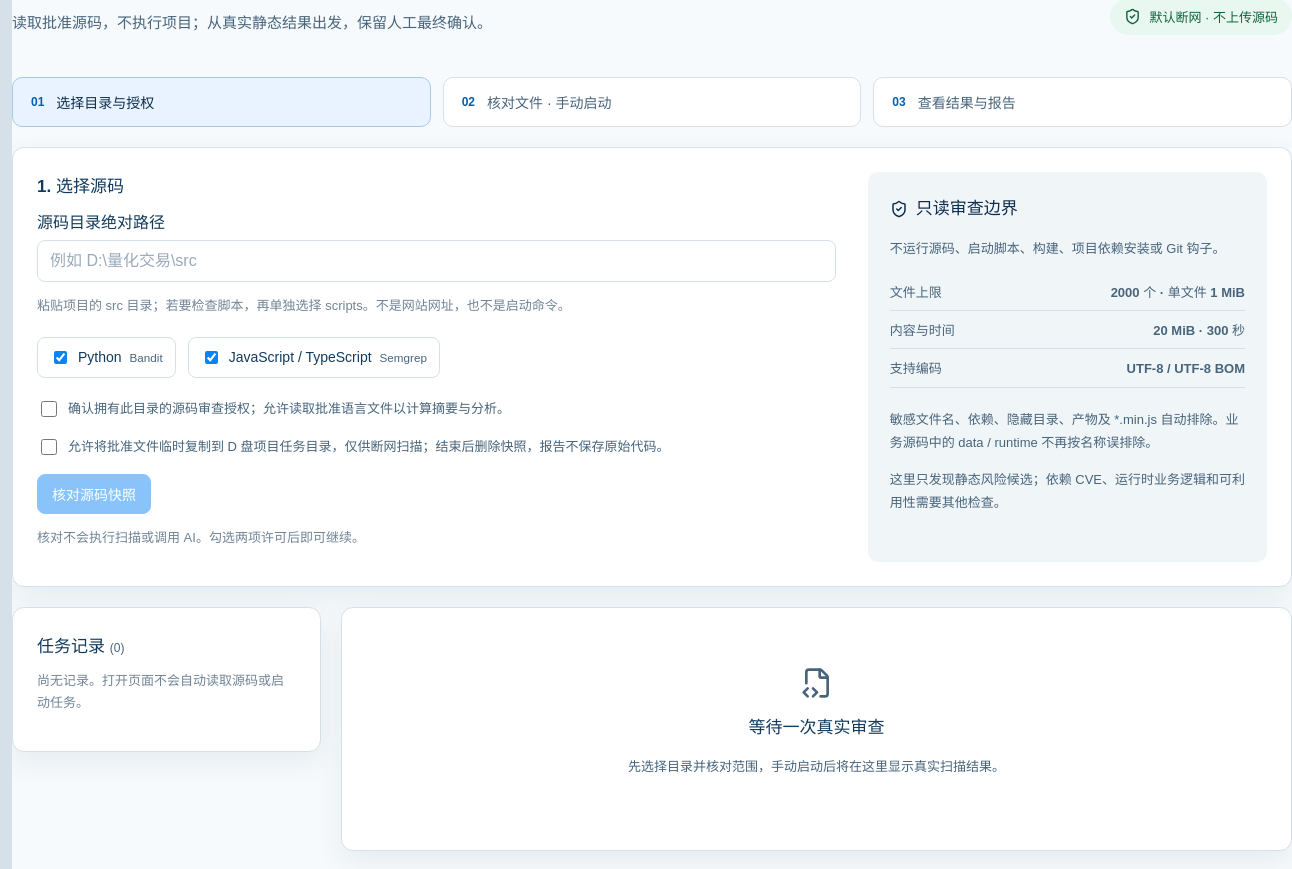
Test: does not replay an accepted scan when the immediate status refresh fails
The image size is (1292, 869).
Type "D:\\Synthetic" into the field labelled "源码目录绝对路径" at (436, 261), box [37, 240, 836, 282]
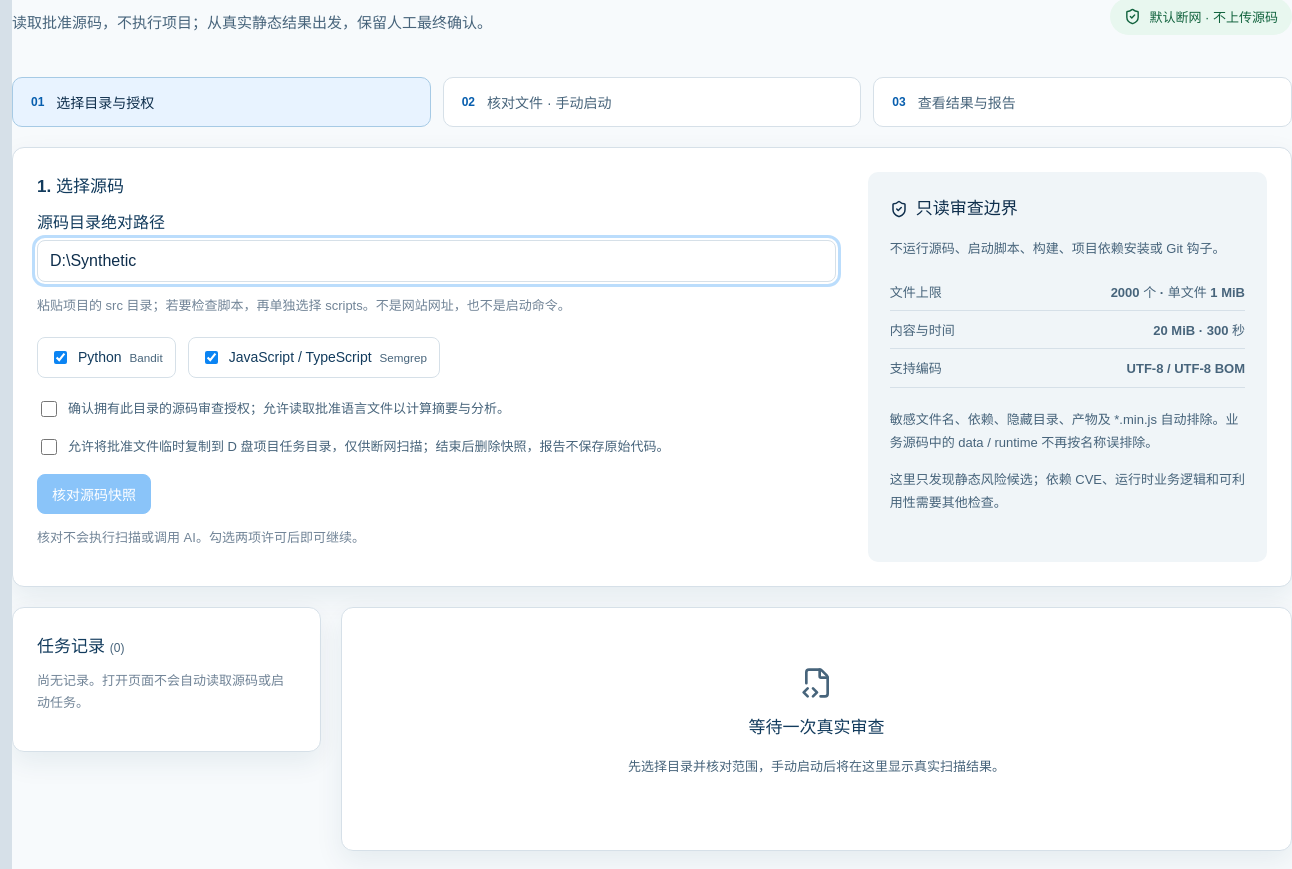
Click the checkbox labelled "确认拥有此目录的源码审查授权；允许读取批准语言文件以计算摘要与分析。" at (49, 409), box [41, 401, 57, 417]
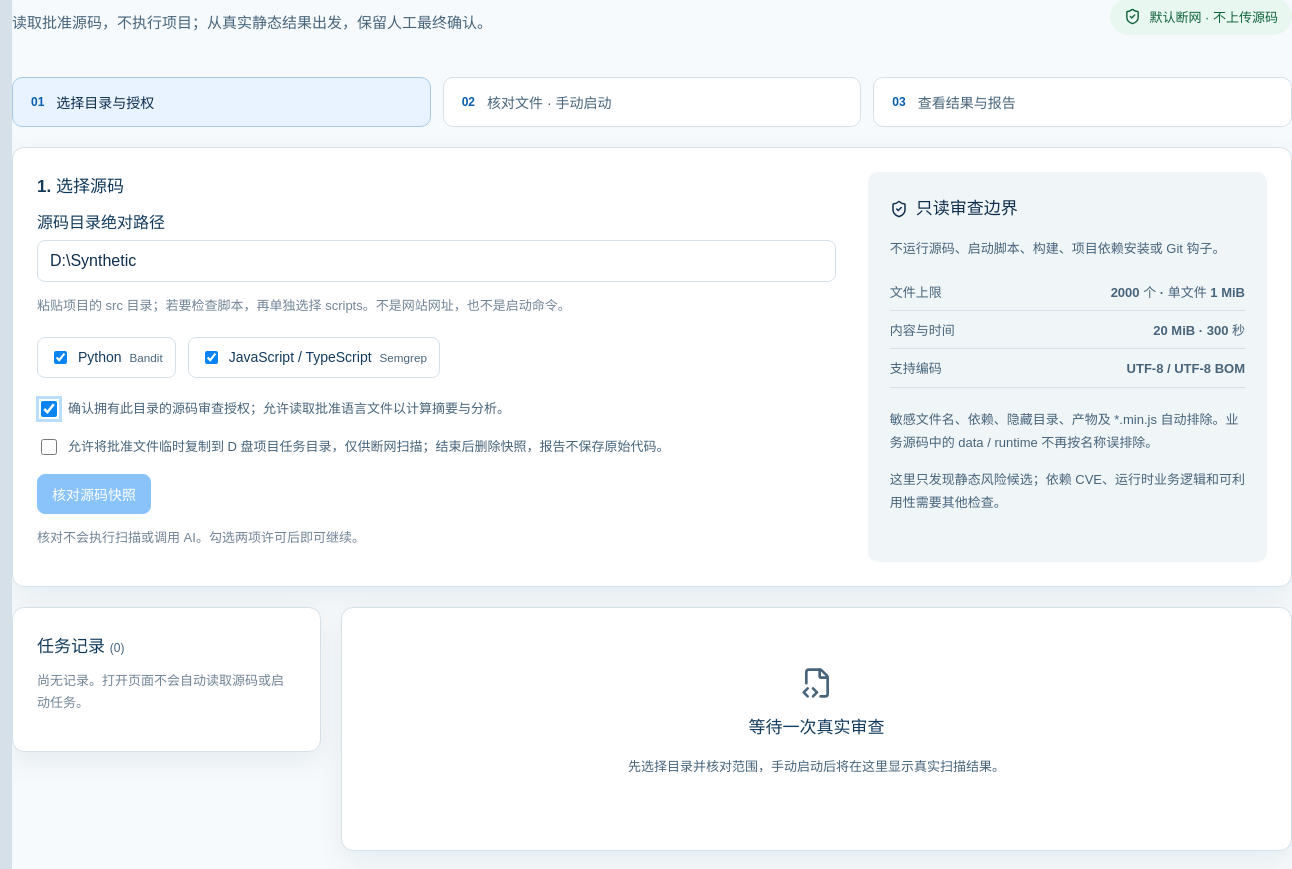
Click the checkbox labelled "允许将批准文件临时复制到 D 盘项目任务目录，仅供断网扫描；结束后删除快照，报告不保存原始代码。" at (49, 447), box [41, 439, 57, 455]
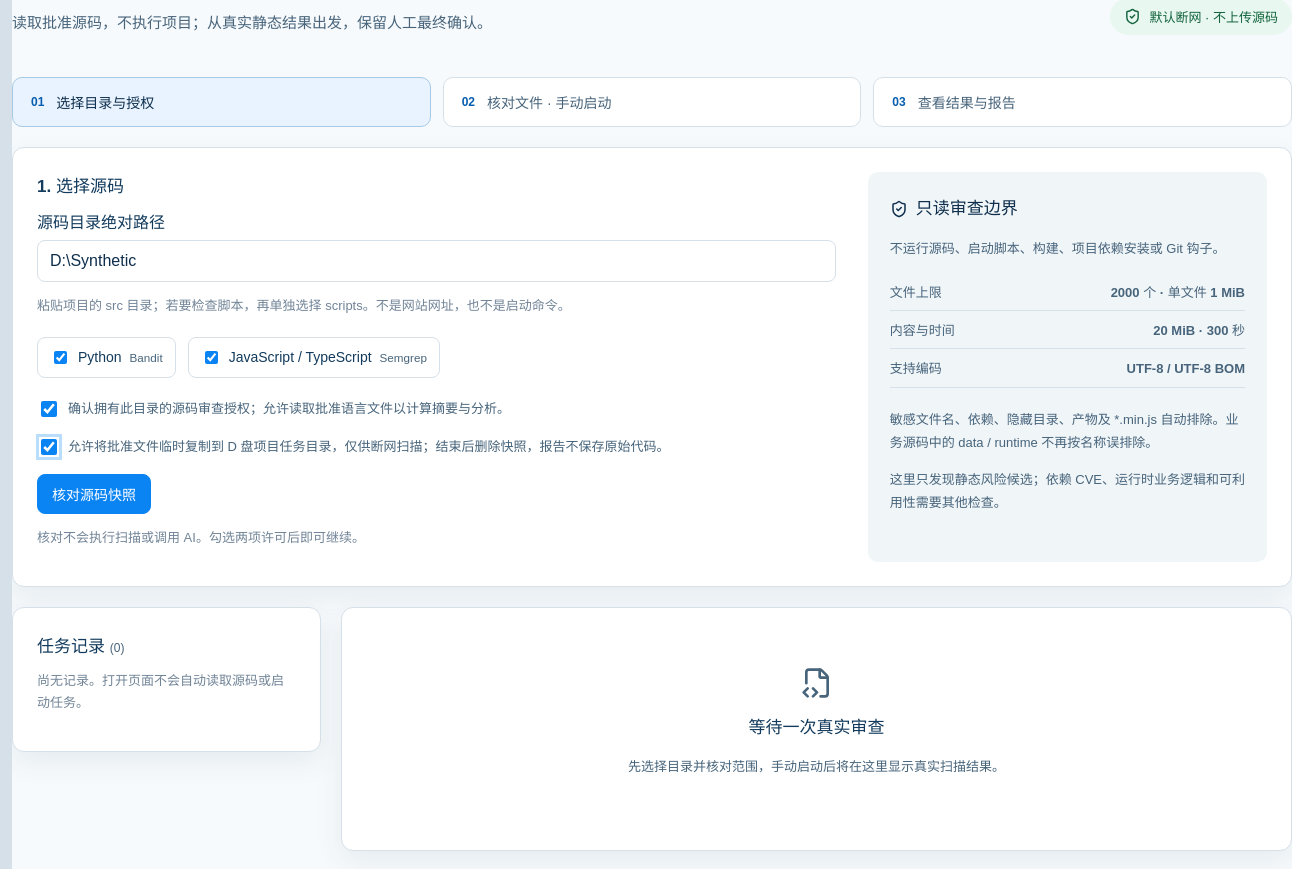
Click the button "核对源码快照" at (94, 494), box [37, 474, 151, 514]
(page scrolled)
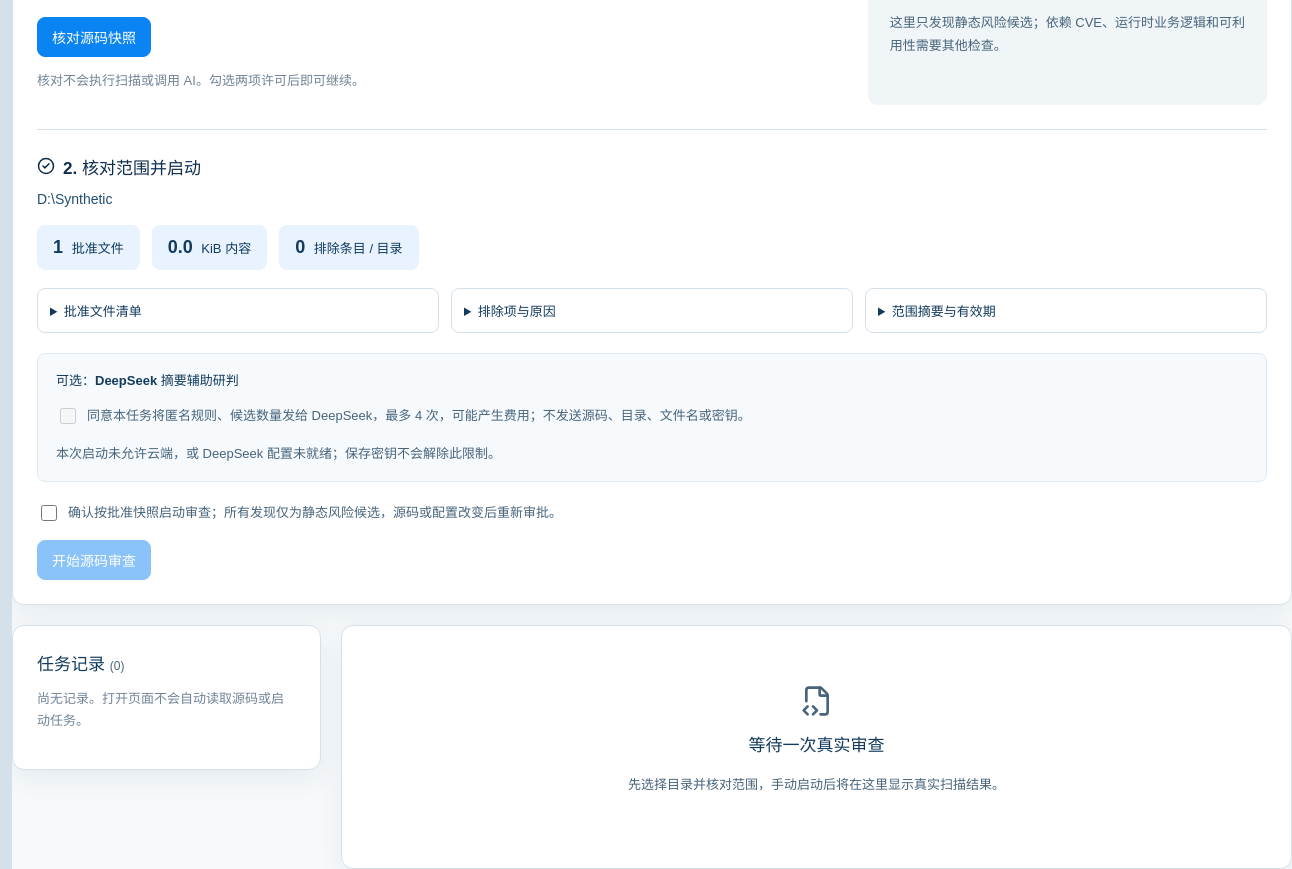
Click the checkbox labelled "确认按批准快照启动审查；所有发现仅为静态风险候选，源码或配置改变后重新审批。" at (49, 513), box [41, 505, 57, 521]
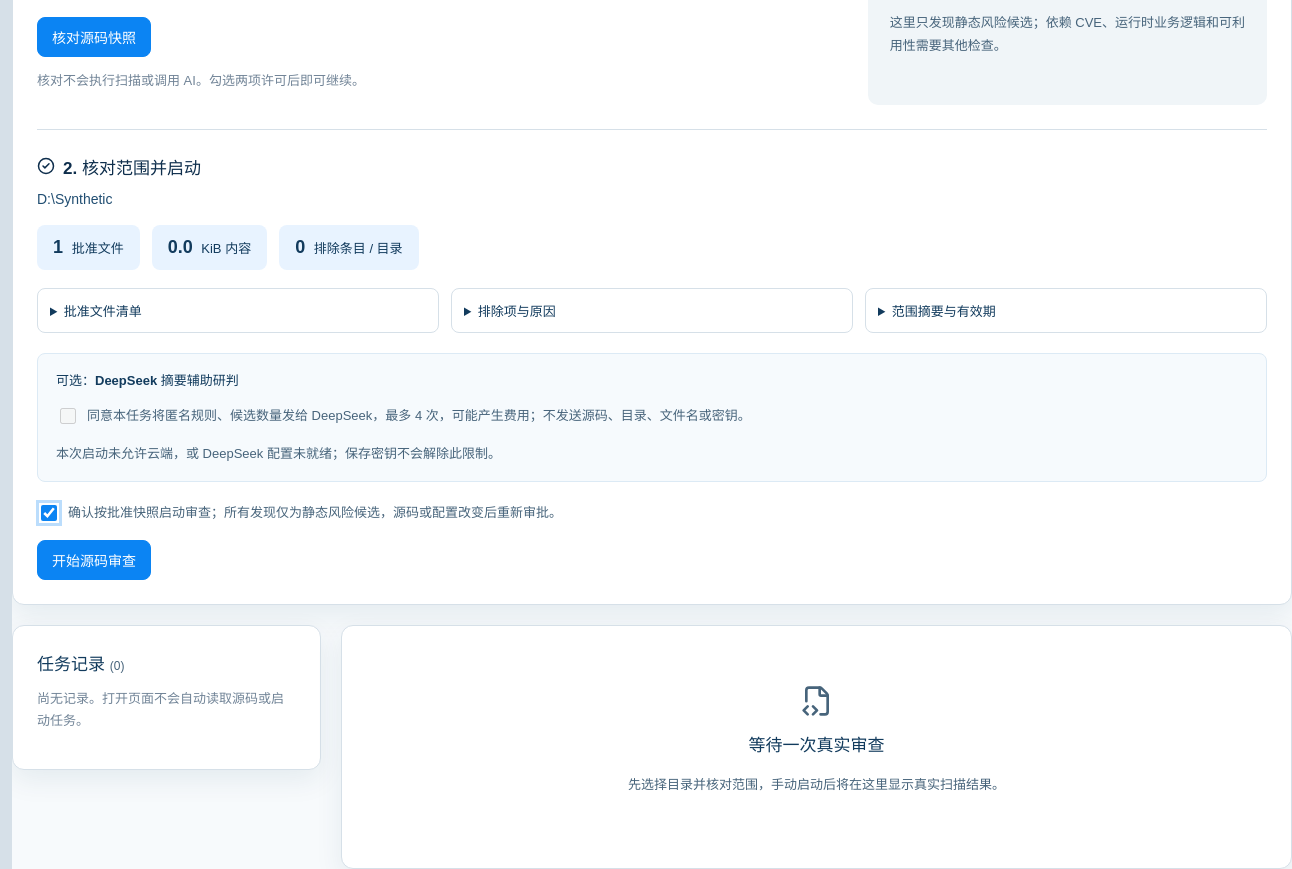
Click the button "开始源码审查" at (94, 560), box [37, 540, 151, 580]
(page scrolled)
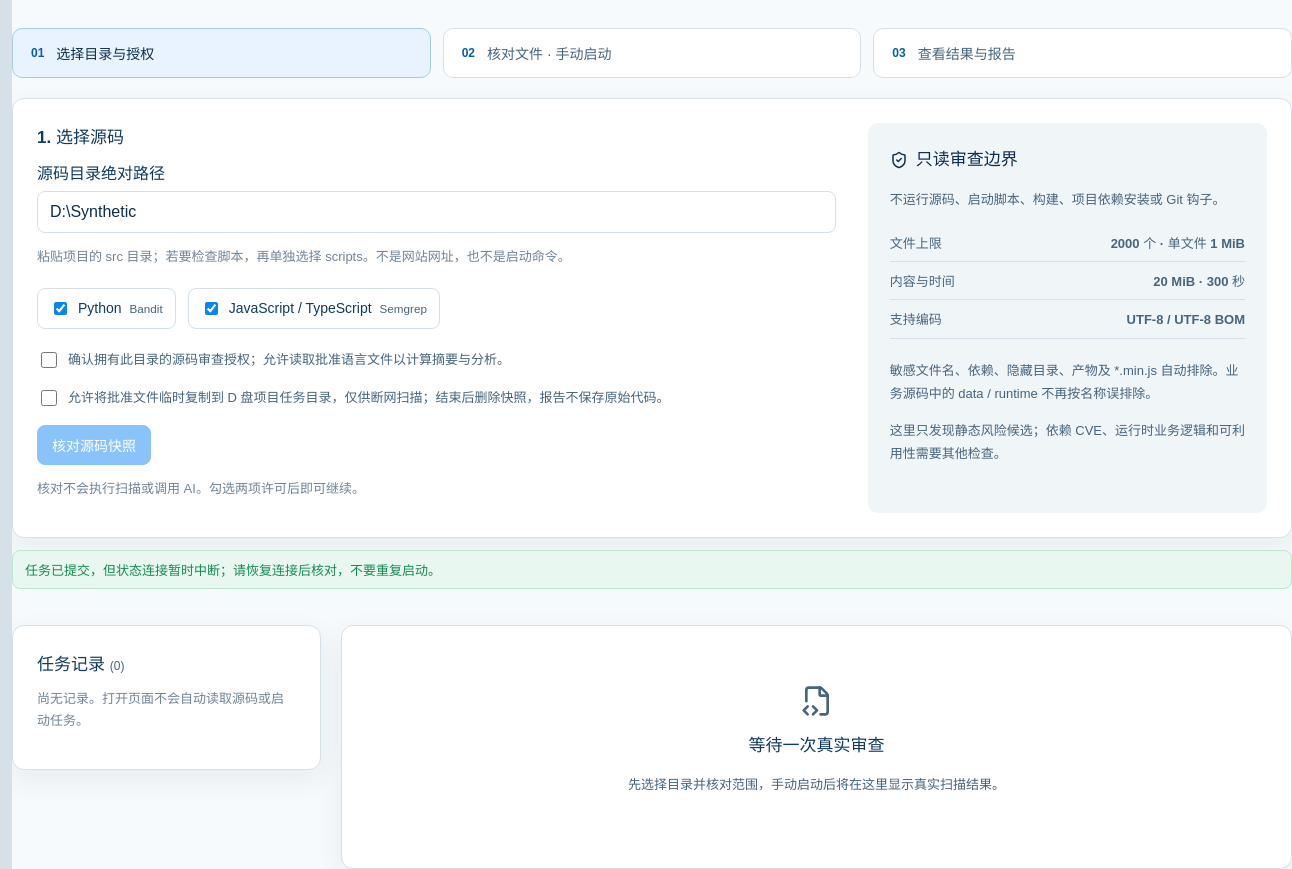
Result: the text "任务已提交，但状态连接暂时中断；请恢复连接后核对，不要重复启动。" is shown at [12, 550, 1291, 589]
Result: the button "开始源码审查" is gone
